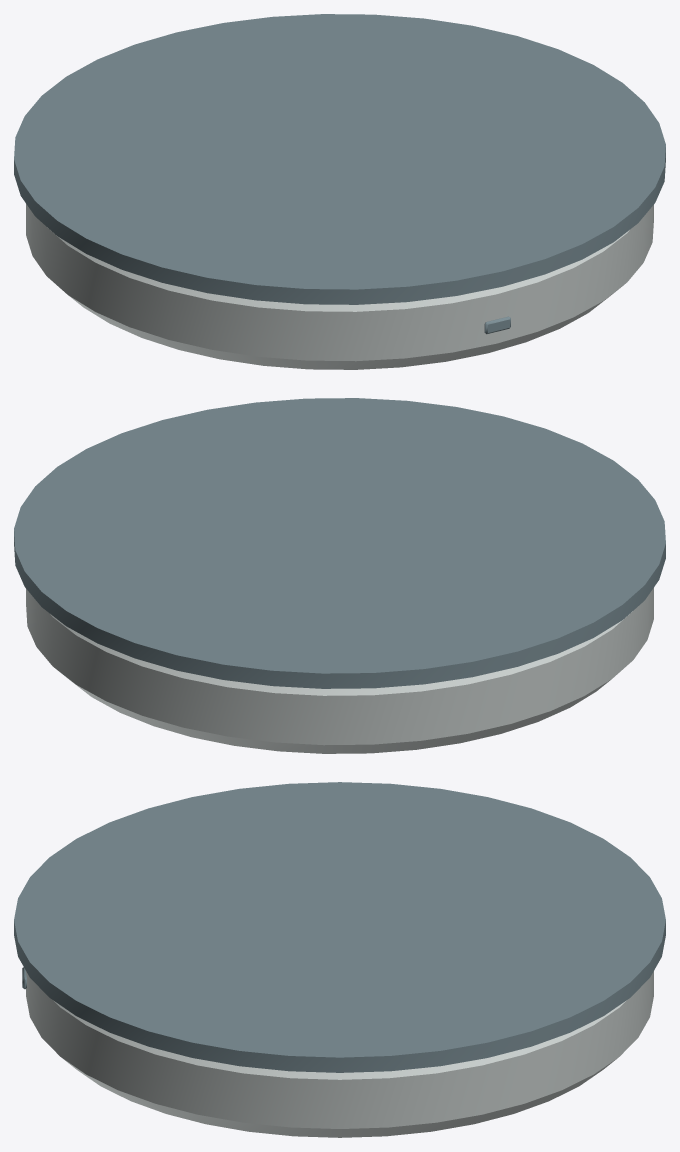
Rendered from display-turntable.glb.
3 renders of one model, top to bottom at view 1: azimuth 30°, elevation 25°; view 2: azimuth 150°, elevation 25°; view 3: azimuth 270°, elevation 25°, orthographic.
Parts seen in each view (by area): view 1: rotating_deck, turntable_base; view 2: rotating_deck, turntable_base; view 3: rotating_deck, turntable_base.
Part boxes in pixels (box(x1,y1,x2,y2)): rotating_deck: box(14, 14, 665, 304); turntable_base: box(26, 204, 653, 369); rotating_deck: box(14, 398, 665, 688); turntable_base: box(26, 588, 653, 753); rotating_deck: box(14, 782, 665, 1072); turntable_base: box(26, 971, 653, 1137).
Size of the model in its own units: 0.54 by 0.085 by 0.54.
